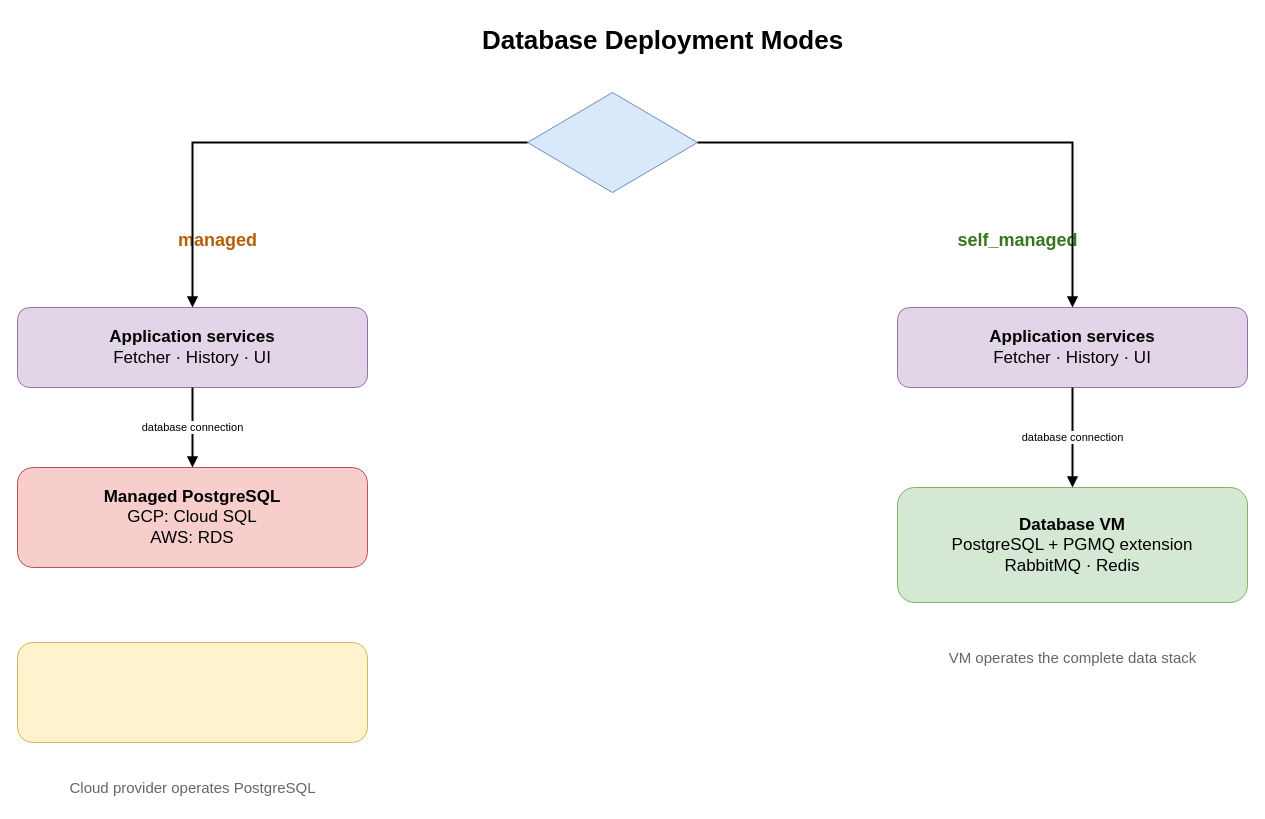
This 1265x819 diagram has some shape labels left out. The centre of each missing label's shape, as x and y in pixels:
"Database VM RabbitMQ · Redis PostgreSQL is not running here" belongs at pixel 192 692.
"database.mode" belongs at pixel 612 142.
